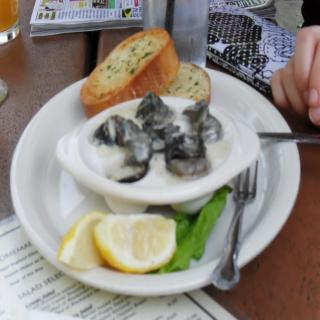Bread: (76, 32, 182, 108), (160, 61, 210, 104)
Lemon: (94, 213, 178, 274), (57, 211, 105, 270)
